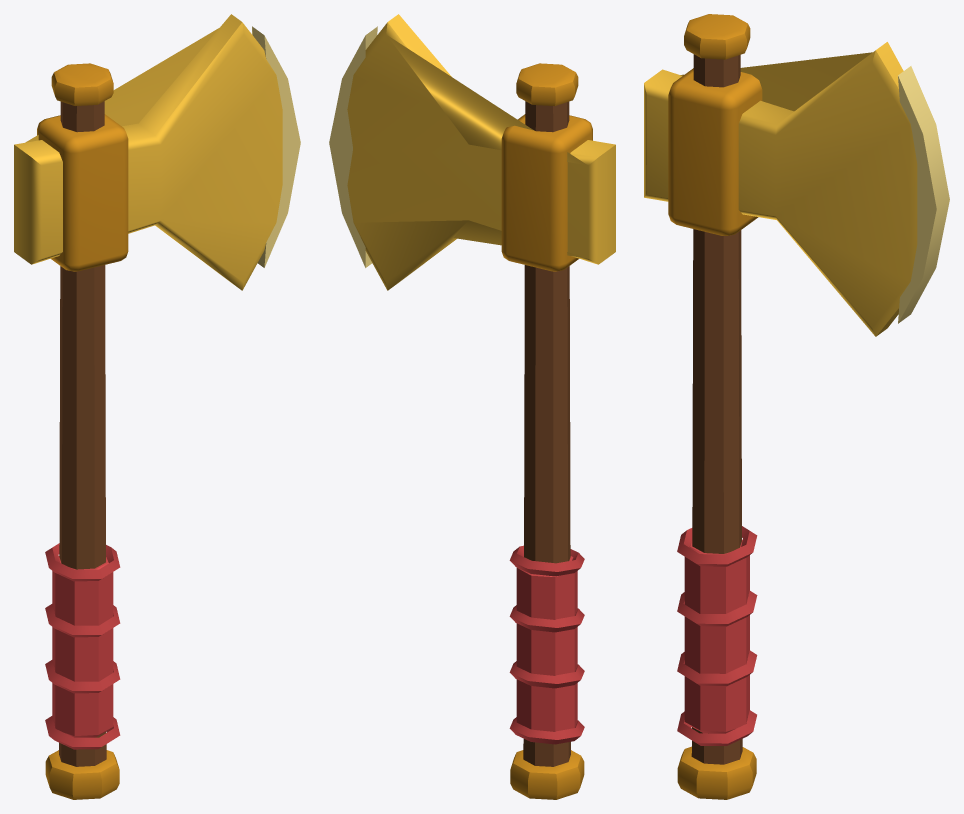
The model's file is GoldAxe.fbx.
3 views of the same model, side by side, from view 1: azimuth 30°, elevation 25°; view 2: azimuth 150°, elevation 25°; view 3: azimuth 330°, elevation 25° (orthographic). The views are drawn at different scales.
Parts seen in each view (by area): view 1: GoldAxe; view 2: GoldAxe; view 3: GoldAxe.
Part boxes in pixels (x1=…): GoldAxe: x1=14, y1=14, x2=300, y2=799; GoldAxe: x1=329, y1=14, x2=615, y2=799; GoldAxe: x1=644, y1=14, x2=949, y2=799.
Size of the model in its own units: 1.27 by 3.27 by 0.3129.
Materials: 1 (1 with a texture image).
